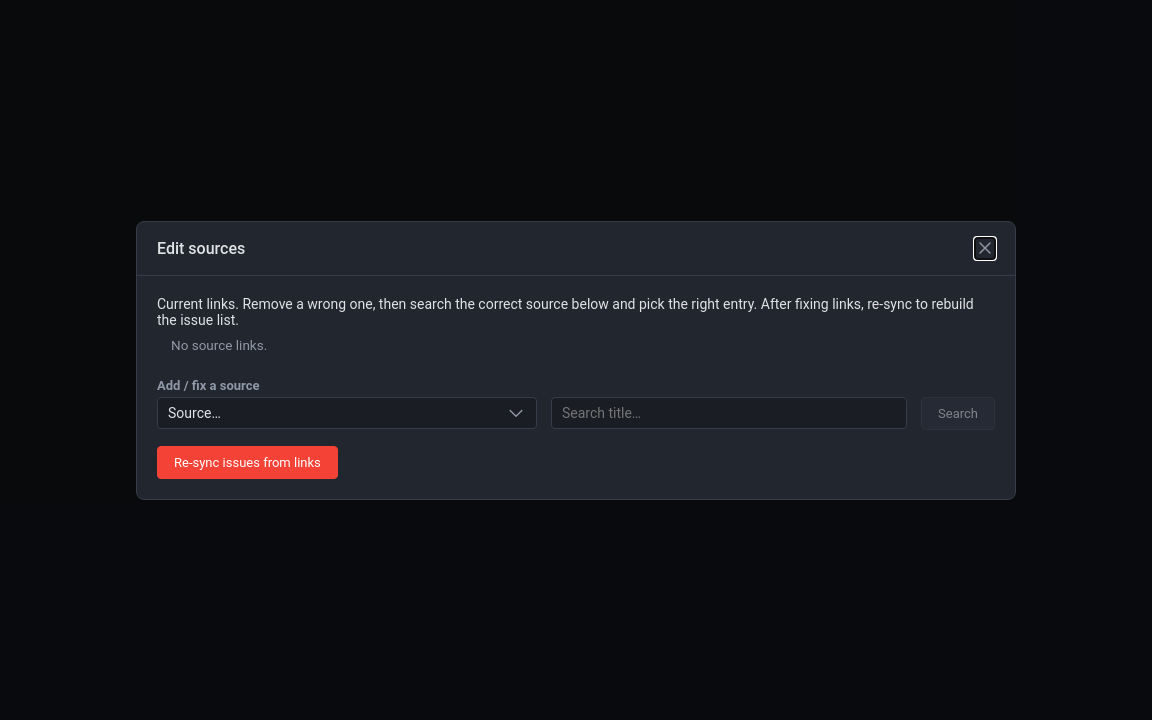
Test: source re-sync shows the latest error and clears an earlier success
Click the button "Re-sync issues from links".
click(247, 462)  # box [157,446,338,478]
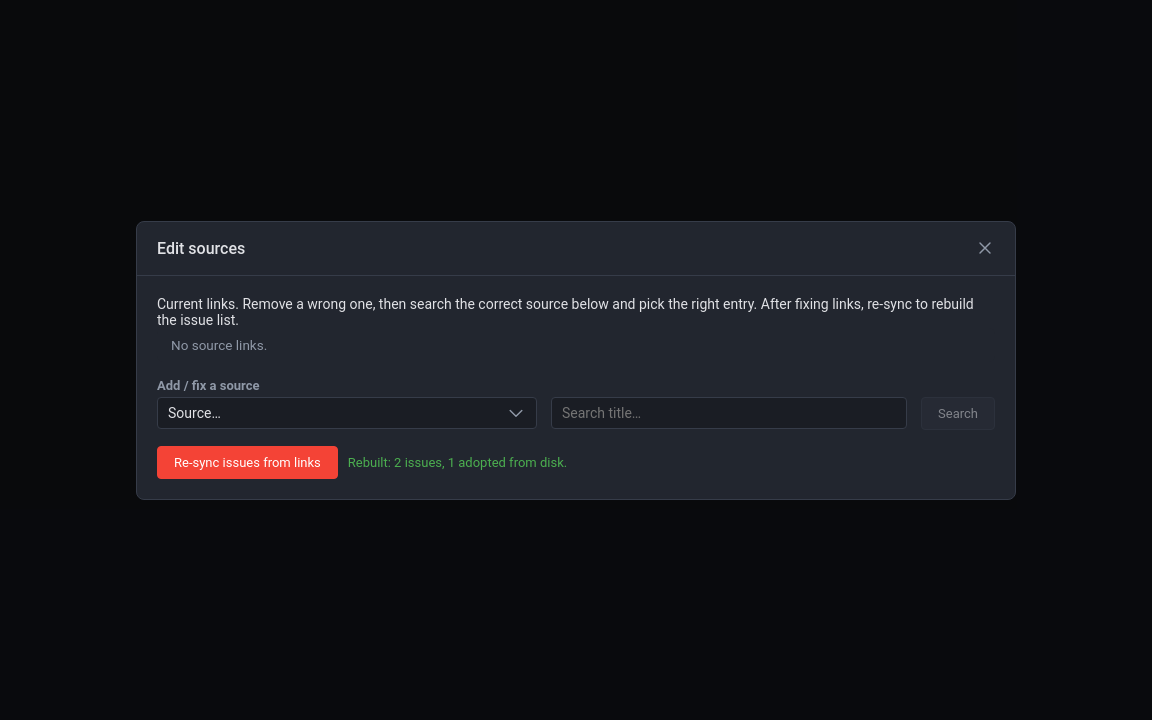
Expected: the text "Rebuilt: 2 issues, 1 adopted from disk." is shown, [348,454,567,470]
Click the button "Re-sync issues from links".
click(247, 462)  # box [157,446,338,478]
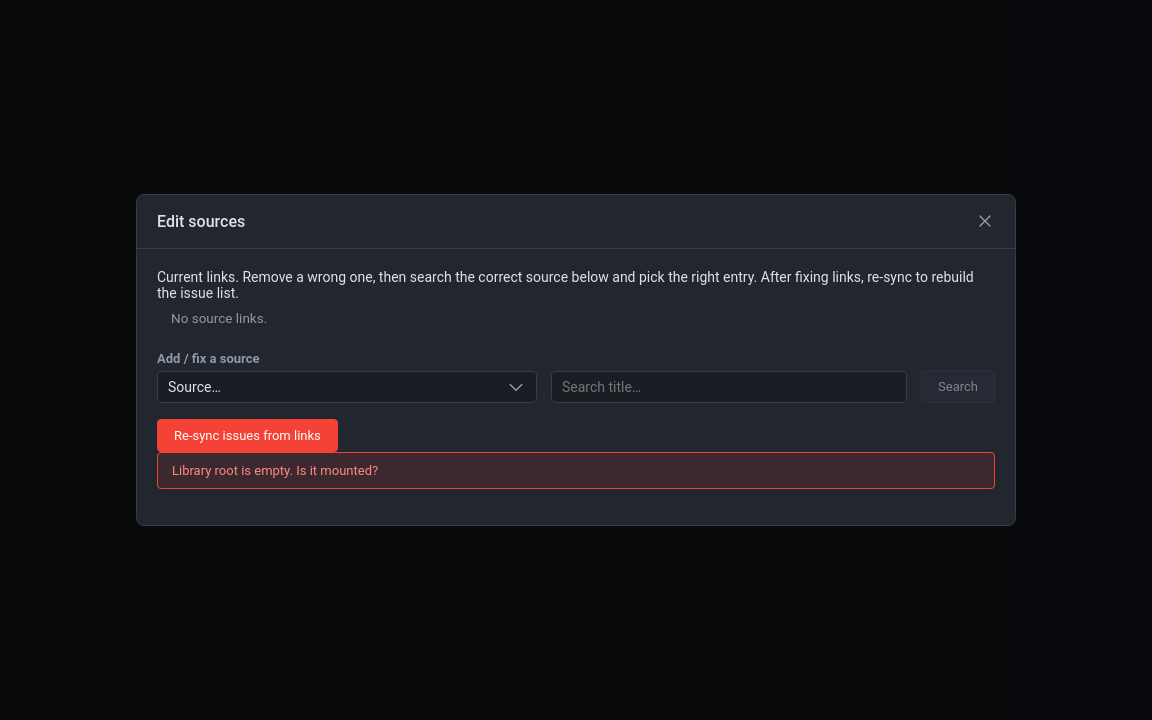
Expected: the message reads "Library root is empty. Is it mounted?", [172,463,378,478]
Expected: the text "Rebuilt:" is gone
